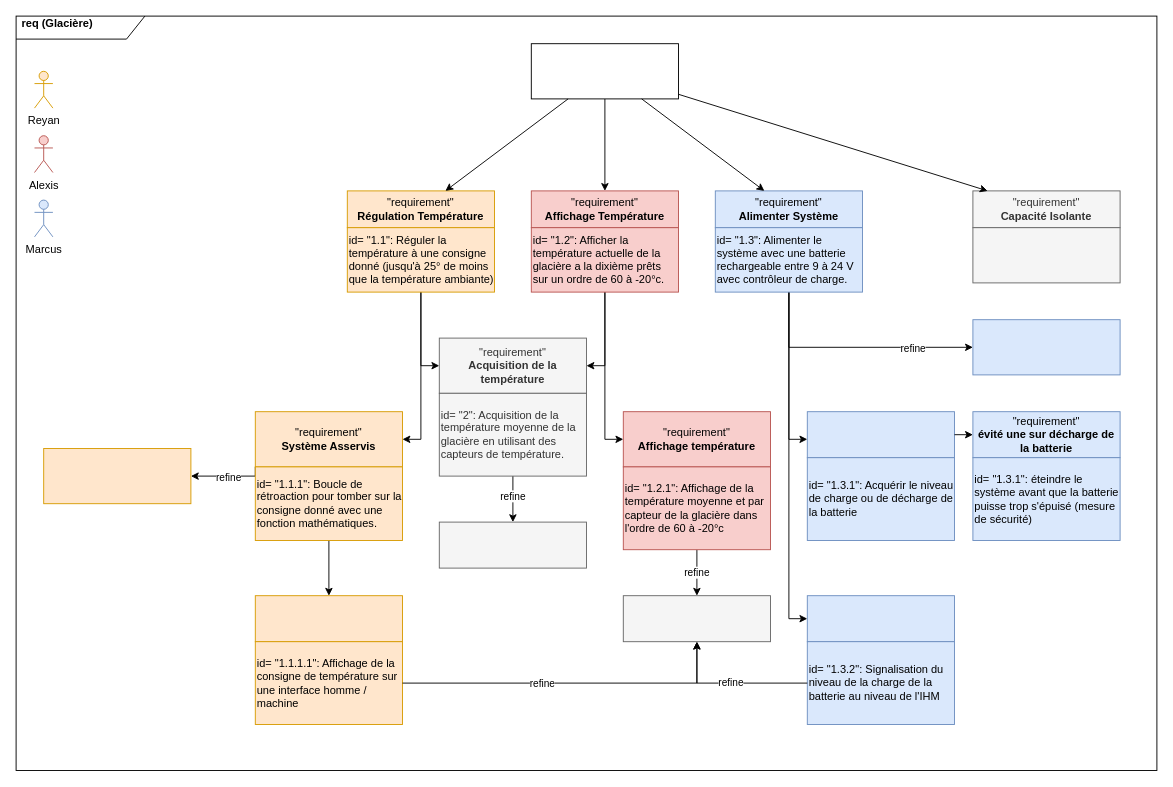
This 1173x787 diagram has some shape labels left out. Here are the shapes that lost their labels. From the top down, the box of each, then its label:
(530, 43, 678, 99): "requirement" Glacière Autonome
(972, 227, 1120, 283): id= "1.4": La glacière doit garder ces caractéristiques isolante excellente.
(972, 319, 1120, 375): "block" batterie rechargeable
(806, 411, 954, 458): "requirement" Acquisition de niveau de charge
(43, 448, 191, 504): "block" Fonction Mathématiques
(438, 521, 586, 568): "block" Capteurs Température
(254, 595, 402, 642): "requirement" Affichage consigne température
(622, 595, 770, 642): "block" IHM
(806, 595, 954, 642): "requirement" Affichage niveau de charge
